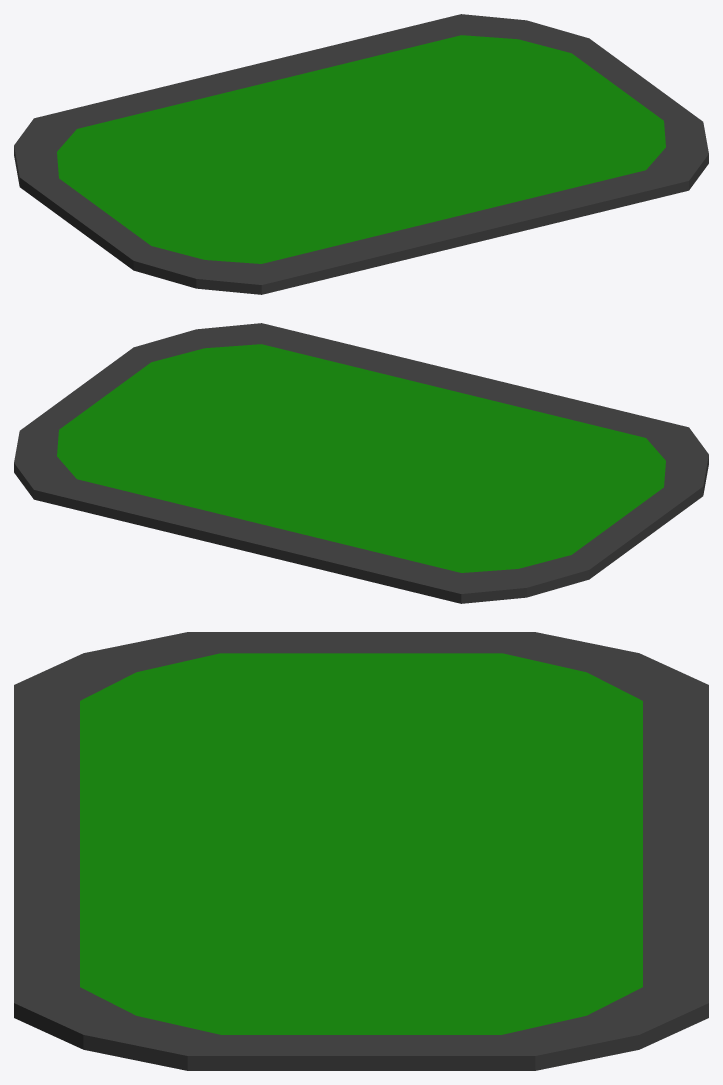
The model's file is Desk Mat.fbx.
3 views of the same model, one above another, from view 1: azimuth 30°, elevation 25°; view 2: azimuth 150°, elevation 25°; view 3: azimuth 270°, elevation 25° (orthographic). The views are drawn at different scales.
Visible parts, largest first — view 1: Desk Mat; view 2: Desk Mat; view 3: Desk Mat.
Boxes of the visible parts, x1,y1,x2,y2 form: Desk Mat: (14, 14, 708, 294); Desk Mat: (14, 323, 708, 603); Desk Mat: (14, 632, 708, 1070).
Bounding box in the file's own units: 4100 × 67.28 × 2840.
